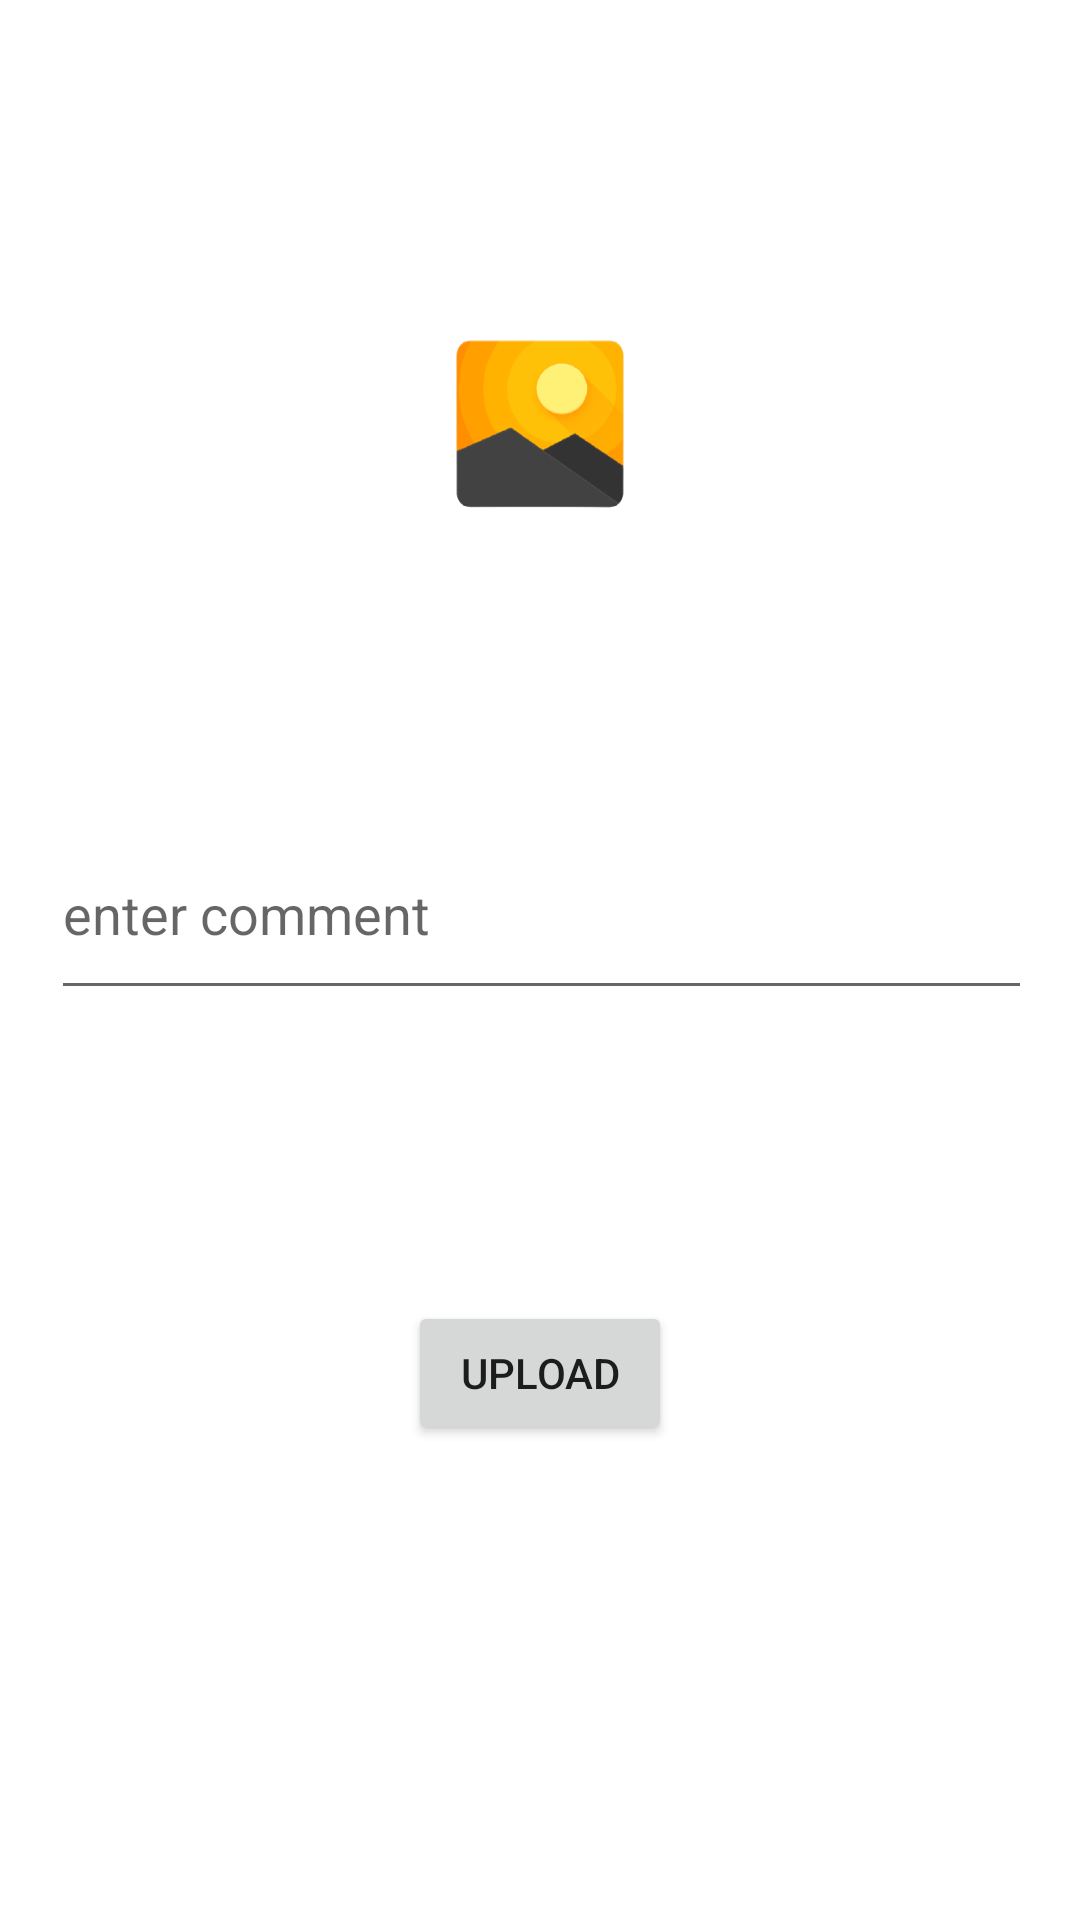

Screen size 1080w x 1920h. Icon name, then its center in pixels as (x,y):
galeriii: (540,424)
